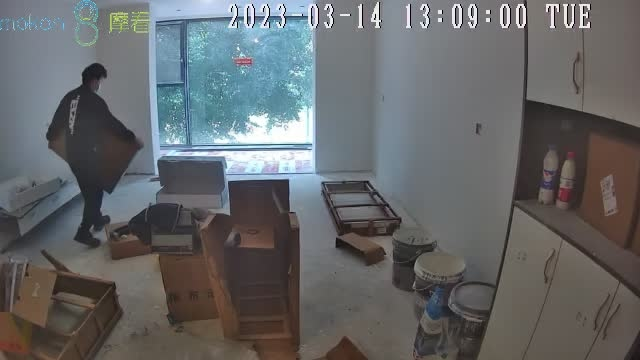people: (46, 62, 144, 247)
window: (157, 18, 312, 149)
